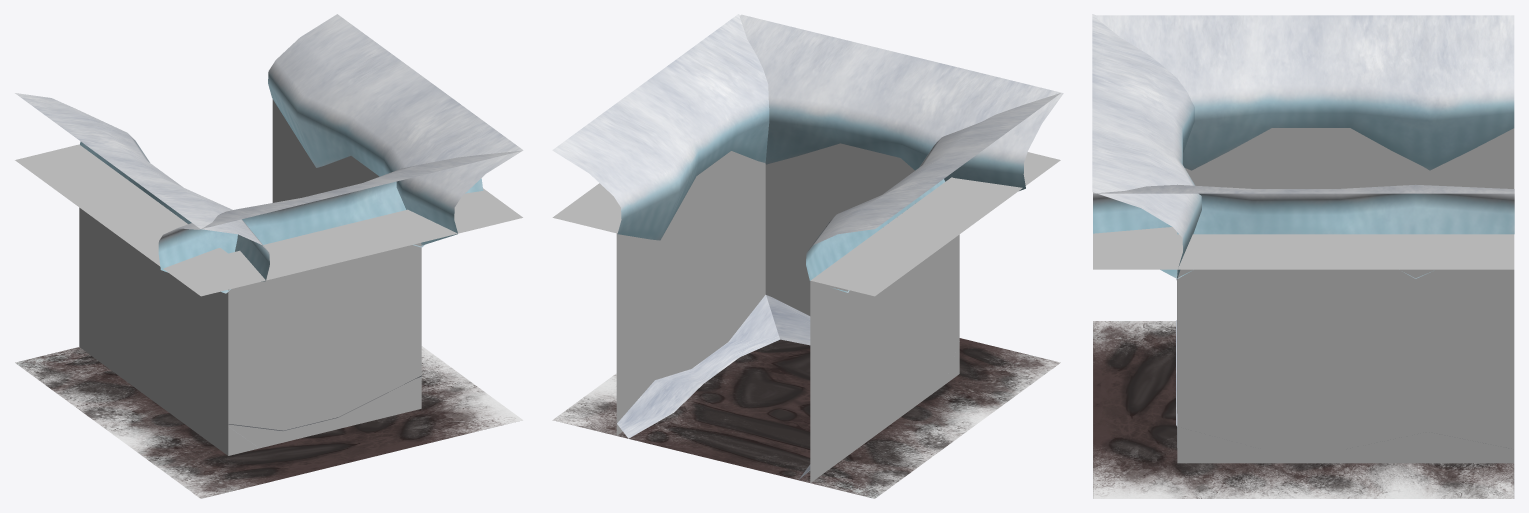
File: Mod_Snow_Dead_End.fbx
3 renders of one model, left to right at view 1: azimuth 30°, elevation 25°; view 2: azimuth 150°, elevation 25°; view 3: azimuth 270°, elevation 25°, orthographic. The views are drawn at different scales.
Parts seen in each view (by area): view 1: polySurface3; view 2: polySurface3; view 3: polySurface3.
Part boxes in pixels (box(x1,y1,x2,y2)): polySurface3: box(15, 14, 523, 498); polySurface3: box(552, 14, 1063, 498); polySurface3: box(1092, 14, 1514, 498).
Size of the model in its own units: 101 by 79.96 by 100.
